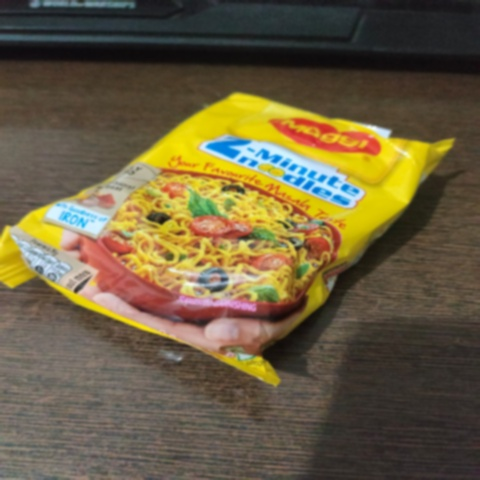maggi: (10, 47, 430, 422)
